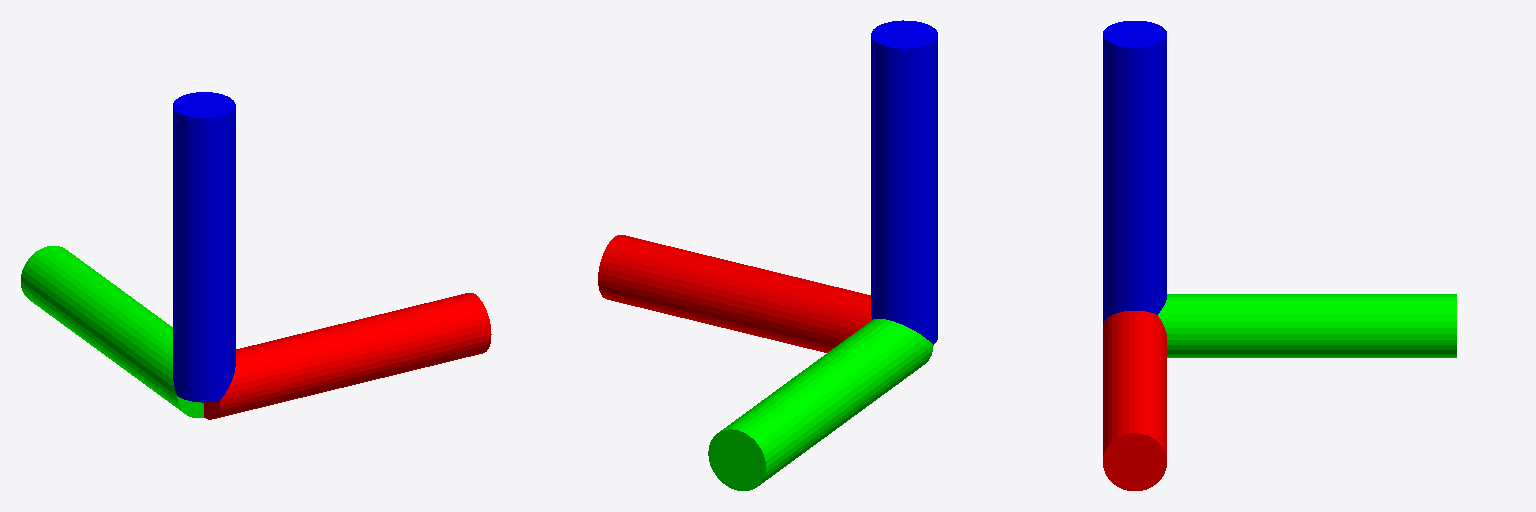
URDF robot description (axis):
<?xml version="1.0" ?>
<robot name="axis">
    <link name="axis">
        <visual name="x_axis">
            <geometry>
                <cylinder length="0.02" radius="0.002"/>
            </geometry>
            <origin xyz="0.01 0 0" rpy="0 1.5707 0"/> <!-- Rotate 90 degrees around Z -->
            <material name="red">
                <color rgba="1 0 0 1"/> <!-- Red Color -->
            </material>
        </visual>

        <!-- Green Arrow for Y-axis -->
        <visual name="z_axis">
            <geometry>
                <cylinder length="0.02" radius="0.002"/>
            </geometry>
            <origin xyz="0 0 0.01" rpy="0 0 1.5707"/> <!-- Rotate -90 degrees around Y -->
            <material name="blue">
                <color rgba="0 0 1 1"/> <!-- Green Color -->
            </material>
        </visual>

        <!-- Blue Arrow for Z-axis -->
        <visual name="y_axis">
            <geometry>
                <cylinder length="0.02" radius="0.002"/>
            </geometry>
            <origin xyz="0 0.01 0" rpy="1.5707 0 0"/> <!-- No rotation needed -->
            <material name="green">
                <color rgba="0 1 0 1"/> <!-- Blue Color -->
            </material>
        </visual>
    </link>
</robot>

--- Render facts (derived) ---
Views: 3 orthographic renders of the robot side by side, from view 1: azimuth 30°, elevation 25°; view 2: azimuth 150°, elevation 25°; view 3: azimuth 270°, elevation 25°.
Model axis with 1 links and 0 joints (none), rooted at axis, posed all joints at 0.
Visible links, largest first — view 1: axis; view 2: axis; view 3: axis.
Boxes of the visible links, <box> form: axis: <box>21,92,491,419</box>; axis: <box>598,20,937,490</box>; axis: <box>1103,21,1456,490</box>.
Size in the robot's own frame: 0.022 by 0.022 by 0.022 metres.
Geometry: primitives only (box / cylinder / sphere), no mesh files.